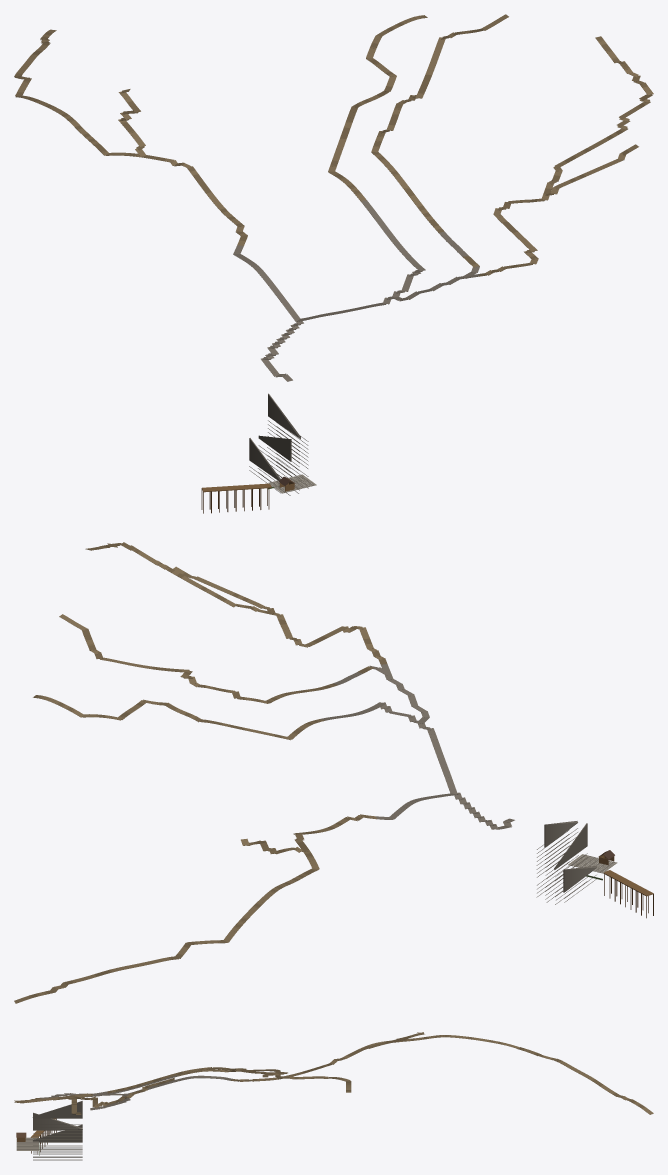
The model's file is coast_isl_saltglass_port_lod1.glb.
The picture shows the model from 3 angles, top to bottom: view 1: azimuth 30°, elevation 25°; view 2: azimuth 150°, elevation 25°; view 3: azimuth 270°, elevation 25°; orthographic projection. The views are drawn at different scales.
Visible parts, largest first — view 1: geometry_0; view 2: geometry_0; view 3: geometry_0.
Part boxes in pixels (bbox=[...]): geometry_0: bbox=[14, 14, 653, 513]; geometry_0: bbox=[14, 542, 653, 1003]; geometry_0: bbox=[14, 1032, 653, 1160].
Bounding box in the file's own units: 210 × 124 × 308.
